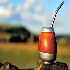guampa: (18, 1, 67, 65)
